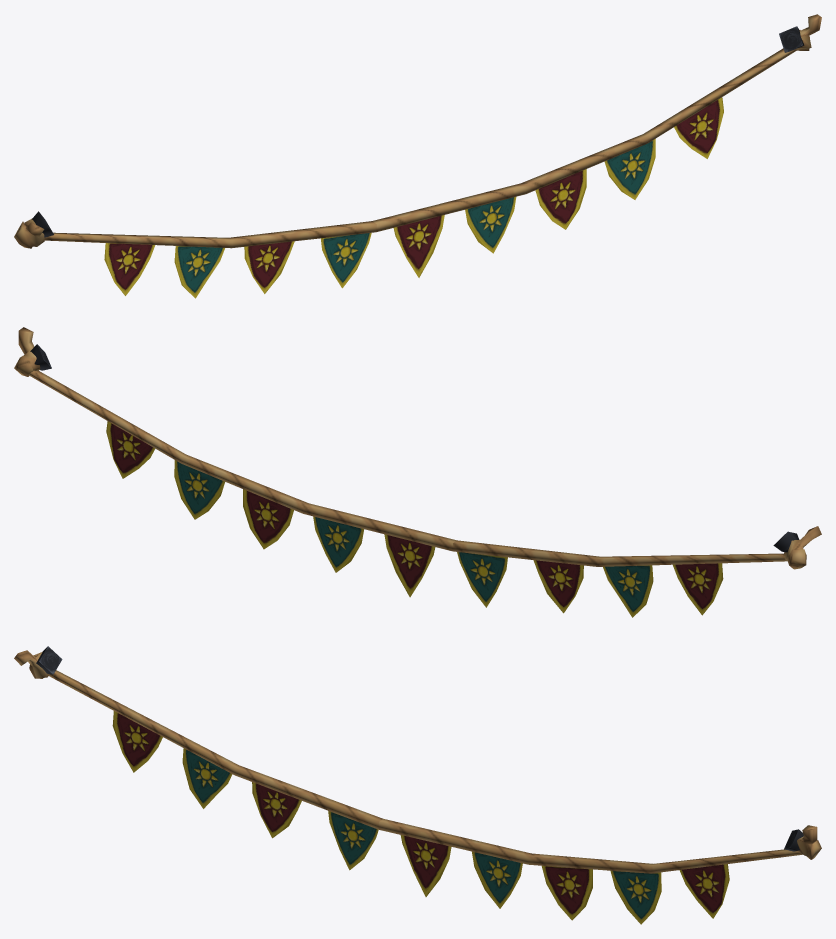
File: SM_PROP_rope_decoration_city_01.fbx
3 renders of one model, top to bottom at view 1: azimuth 30°, elevation 25°; view 2: azimuth 150°, elevation 25°; view 3: azimuth 330°, elevation 25°, orthographic.
Parts seen in each view (by area): view 1: SM_PROP_rope_decoration_city_01; view 2: SM_PROP_rope_decoration_city_01; view 3: SM_PROP_rope_decoration_city_01.
Boxes of the visible parts, left/top/right/bottom form: SM_PROP_rope_decoration_city_01: left=14, top=14, right=821, bottom=298; SM_PROP_rope_decoration_city_01: left=14, top=327, right=821, bottom=617; SM_PROP_rope_decoration_city_01: left=14, top=646, right=821, bottom=924.
Bounding box in the file's own units: 491 × 100 × 23.82.
